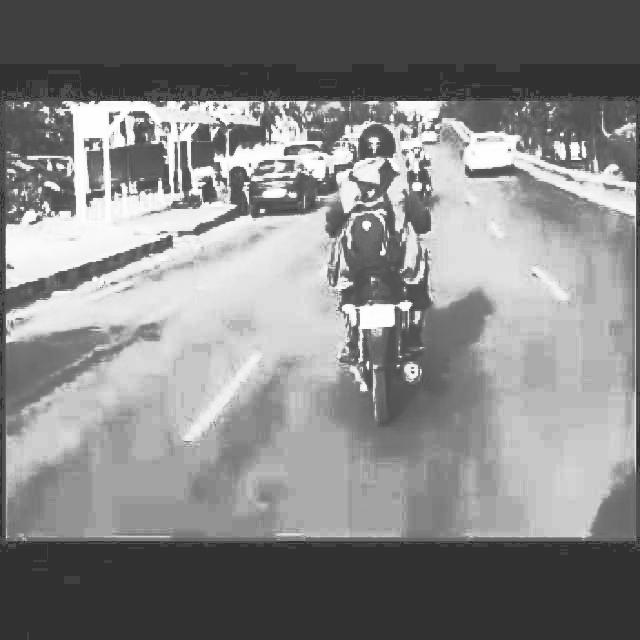Bike: (332, 120, 438, 430)
Car: (245, 147, 321, 223), (464, 122, 522, 182), (286, 133, 346, 189), (326, 129, 368, 178)
